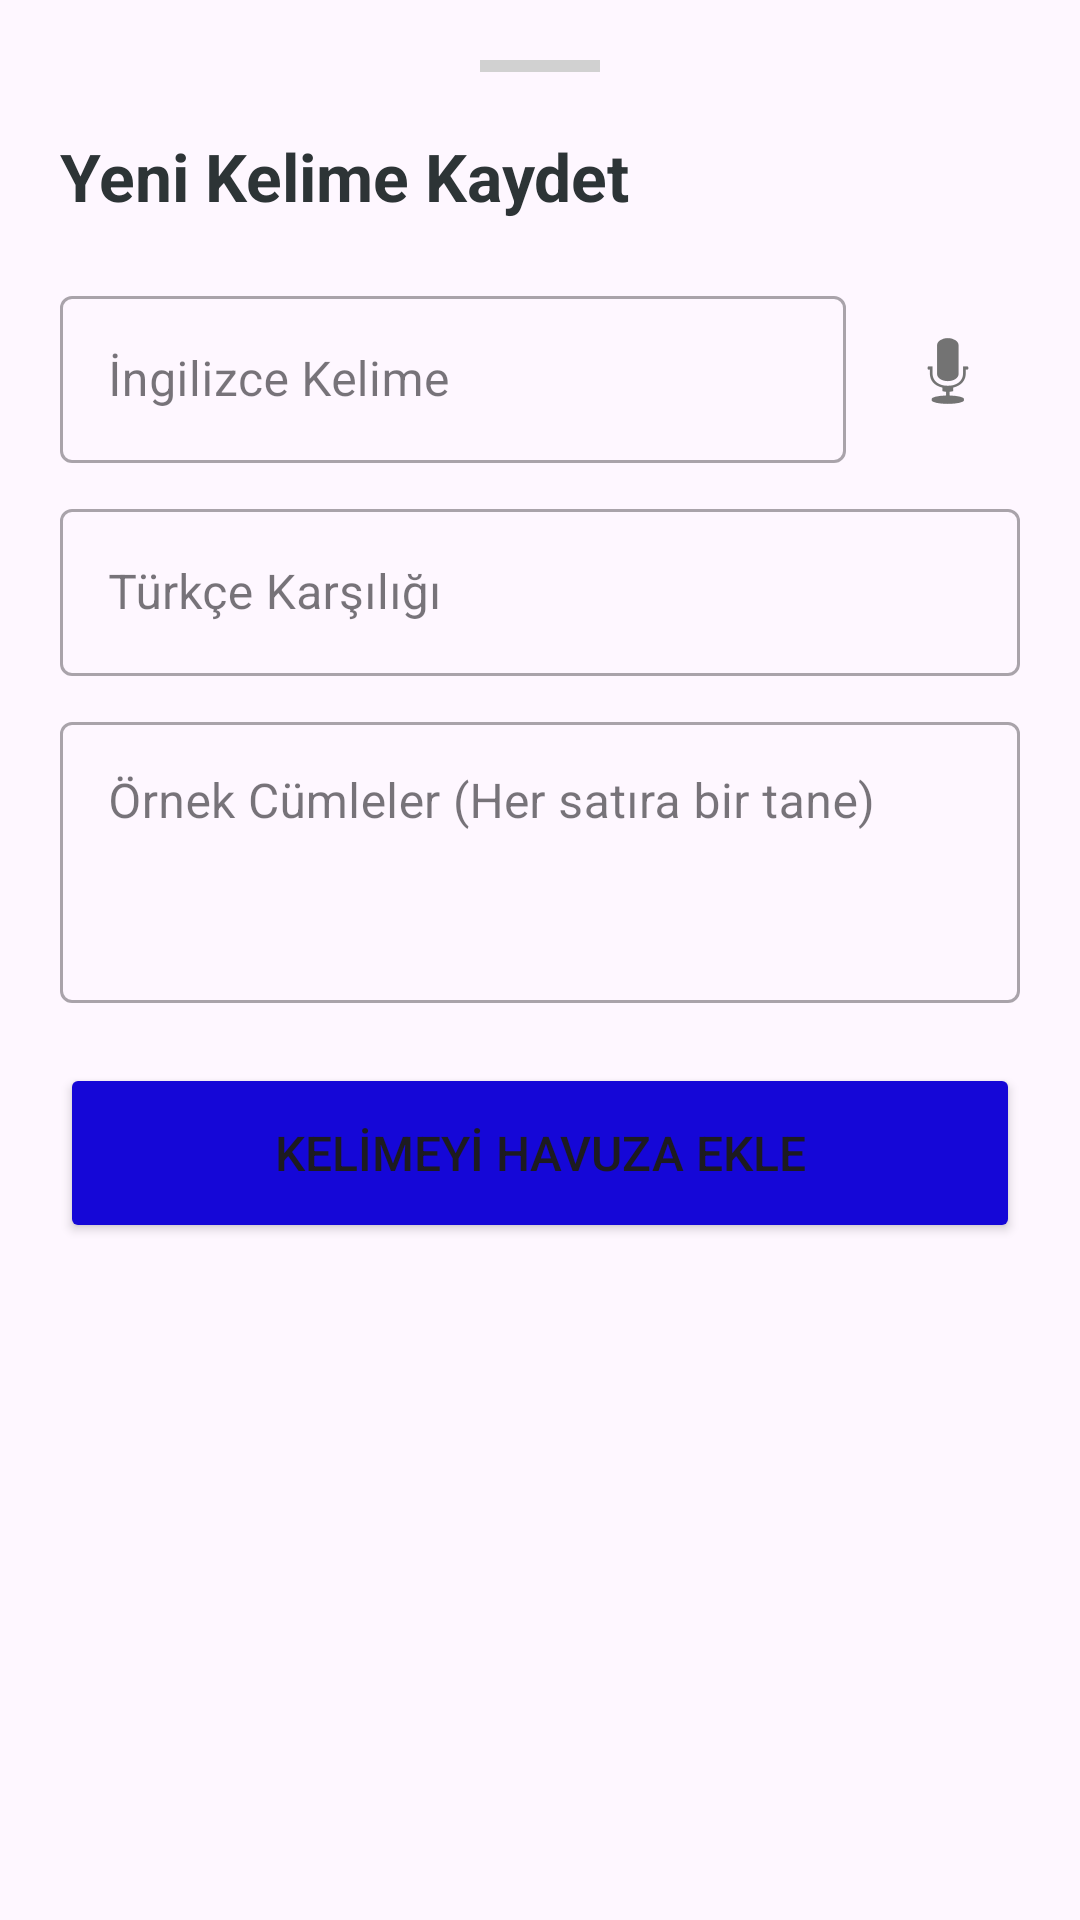

Named icons in this screenshot (1080px×1920px) and their centers, (x,y):
Sesli Oku: (948,371)
